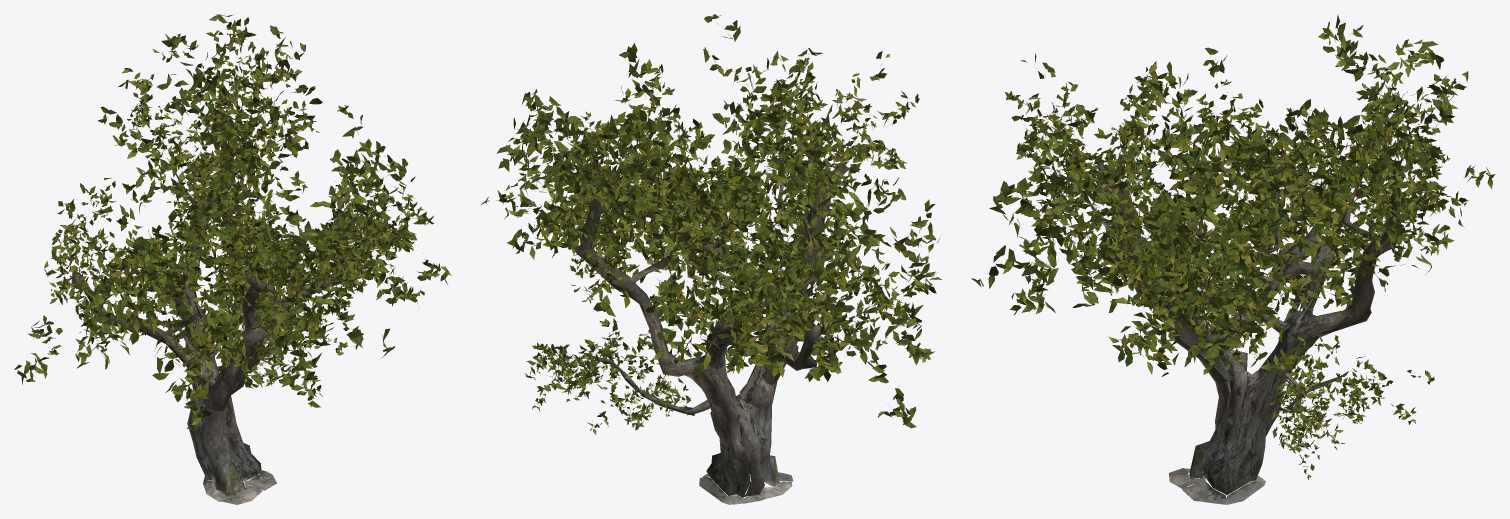
File: bush_01.glb
3 renders of one model, left to right at view 1: azimuth 30°, elevation 25°; view 2: azimuth 150°, elevation 25°; view 3: azimuth 270°, elevation 25°, orthographic. The views are drawn at different scales.
Parts seen in each view (by area): view 1: island_tree_01_LOD0.002, island_tree_01_LOD0.001, island_tree_01_LOD0; view 2: island_tree_01_LOD0.002, island_tree_01_LOD0.001, island_tree_01_LOD0; view 3: island_tree_01_LOD0.002, island_tree_01_LOD0.001, island_tree_01_LOD0.
Part boxes in pixels (x1,y1,x2,y2): island_tree_01_LOD0.002: [14, 14, 451, 429]; island_tree_01_LOD0.001: [71, 122, 370, 504]; island_tree_01_LOD0: [38, 27, 439, 415]; island_tree_01_LOD0.002: [481, 14, 941, 434]; island_tree_01_LOD0.001: [573, 144, 849, 504]; island_tree_01_LOD0: [496, 22, 932, 424]; island_tree_01_LOD0.002: [971, 14, 1495, 479]; island_tree_01_LOD0.001: [1081, 158, 1402, 504]; island_tree_01_LOD0: [987, 31, 1482, 469].
Bounding box in the file's own units: 4.71 × 5.07 × 4.82.
3 materials, 3 textured.
